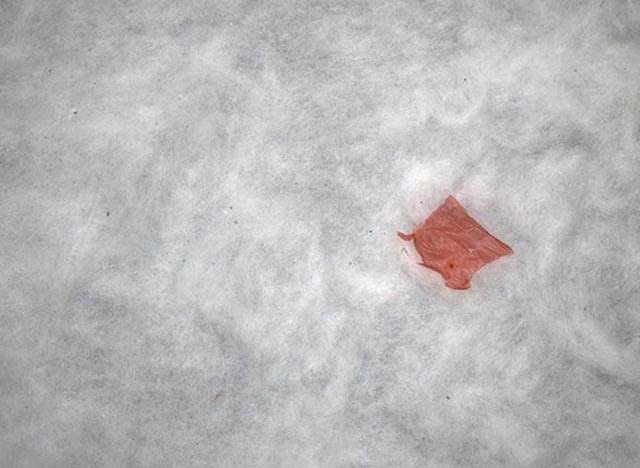plastic film: (396, 195, 516, 291)
